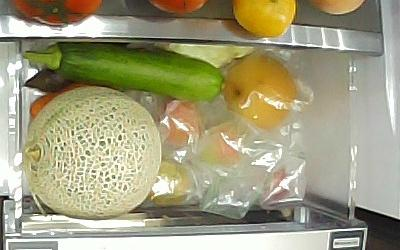eggplant: (24, 70, 77, 93)
melon: (23, 86, 162, 220)
pear_vinyl: (223, 52, 299, 132)
prune_vinyl: (157, 96, 202, 145)
tomato_vinyl: (150, 159, 189, 206), (201, 125, 241, 167)
zucchini: (23, 41, 224, 102)
